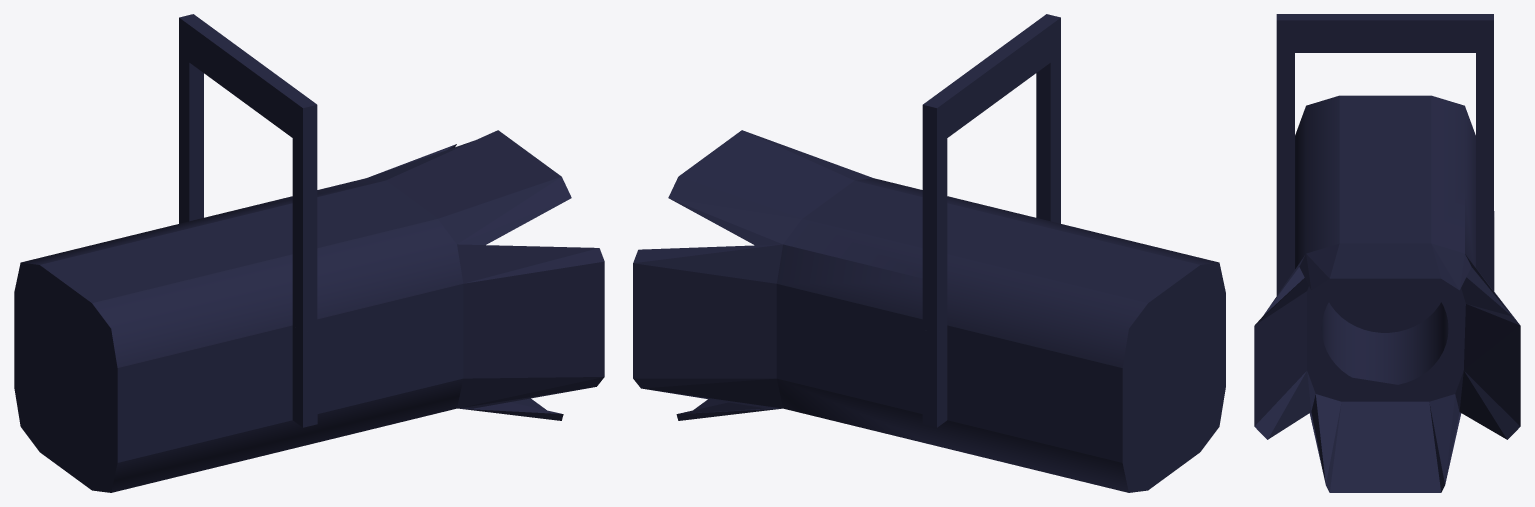
The model's file is Scheinwerfer.DAE.
3 views of the same model, side by side, from view 1: azimuth 30°, elevation 25°; view 2: azimuth 150°, elevation 25°; view 3: azimuth 270°, elevation 25° (orthographic). The views are drawn at different scales.
Visible parts, largest first — view 1: Scheinwerfer; view 2: Scheinwerfer; view 3: Scheinwerfer.
Part boxes in pixels (x1,y1,x2,y2): Scheinwerfer: (14, 14, 604, 492); Scheinwerfer: (633, 14, 1225, 492); Scheinwerfer: (1254, 14, 1520, 492).
Size of the model in its own units: 207 by 173 by 118.
